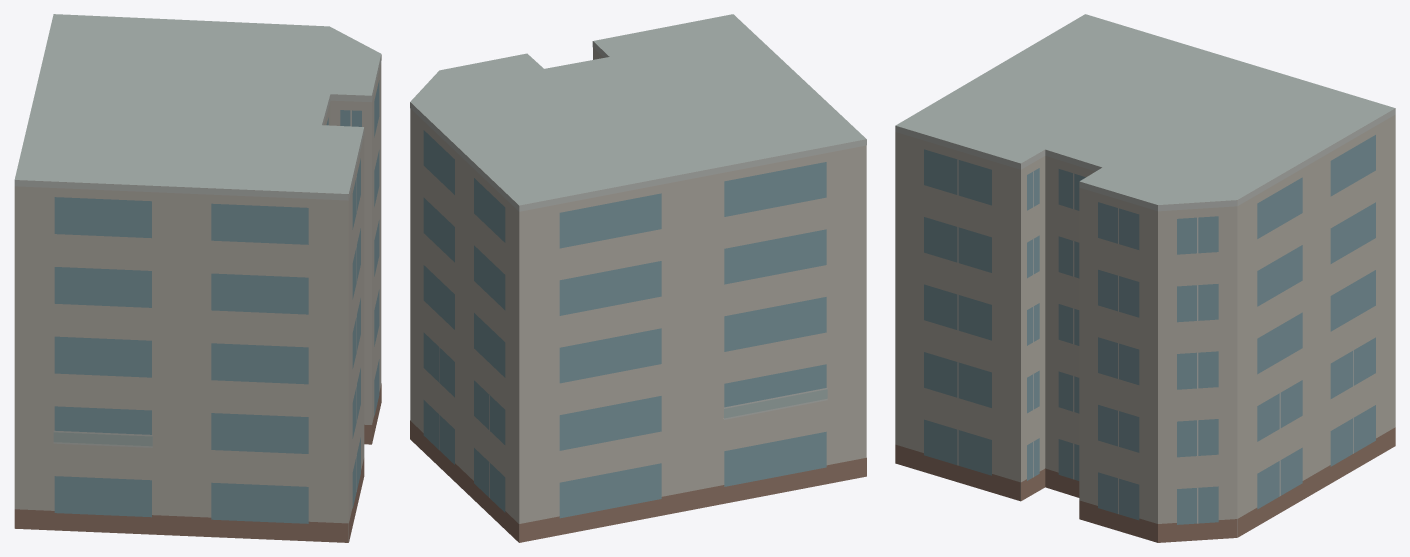
File: survey-upis-32980759.glb
The picture shows the model from 3 angles, left to right: view 1: azimuth 30°, elevation 25°; view 2: azimuth 150°, elevation 25°; view 3: azimuth 270°, elevation 25°; orthographic projection. The views are drawn at different scales.
Parts seen in each view (by area): view 1: survey-upis-32980759.tmp; view 2: survey-upis-32980759.tmp; view 3: survey-upis-32980759.tmp.
Part boxes in pixels (<box>): survey-upis-32980759.tmp: <box>14,14,381,542</box>; survey-upis-32980759.tmp: <box>410,14,866,542</box>; survey-upis-32980759.tmp: <box>895,14,1395,542</box>.
Bounding box in the file's own units: 16.03 × 13.2 × 17.73.
